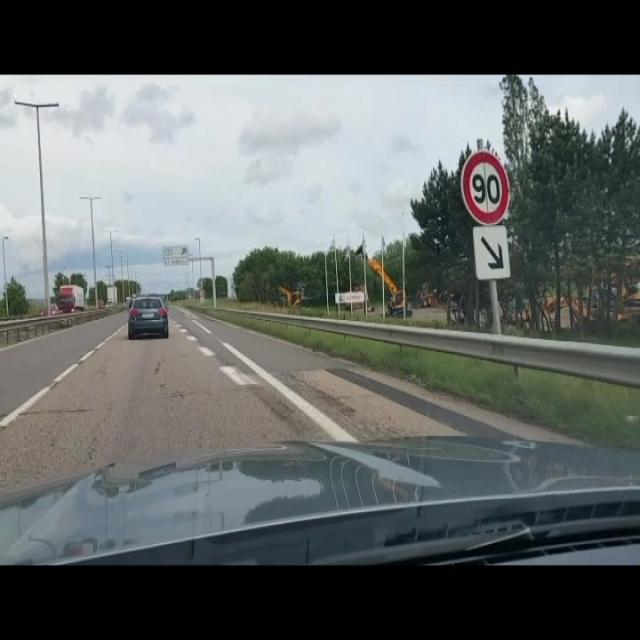direction: (161, 244, 190, 268)
side_right: (475, 227, 512, 280)
speed_90: (459, 149, 512, 226)
